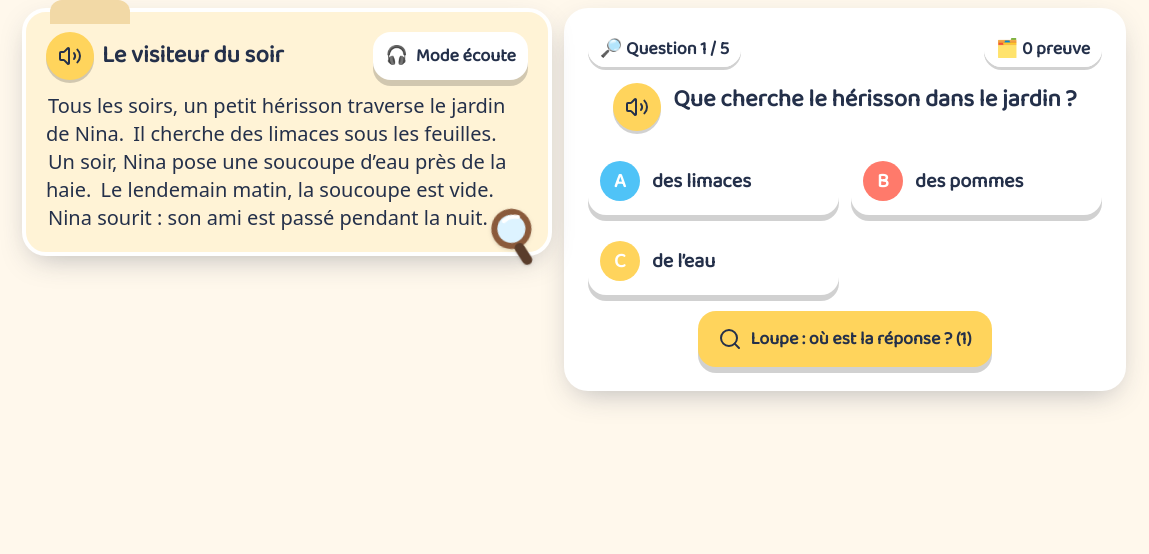
it: jeux de langue (composants) › Détective : une bonne réponse demande la preuve, la preuve est récompensée
Expected: the text "🔎 Question 1 / 5" is shown, [588,32,741,67]
Click the button "A des limaces": (713, 181) [588,147,839,215]
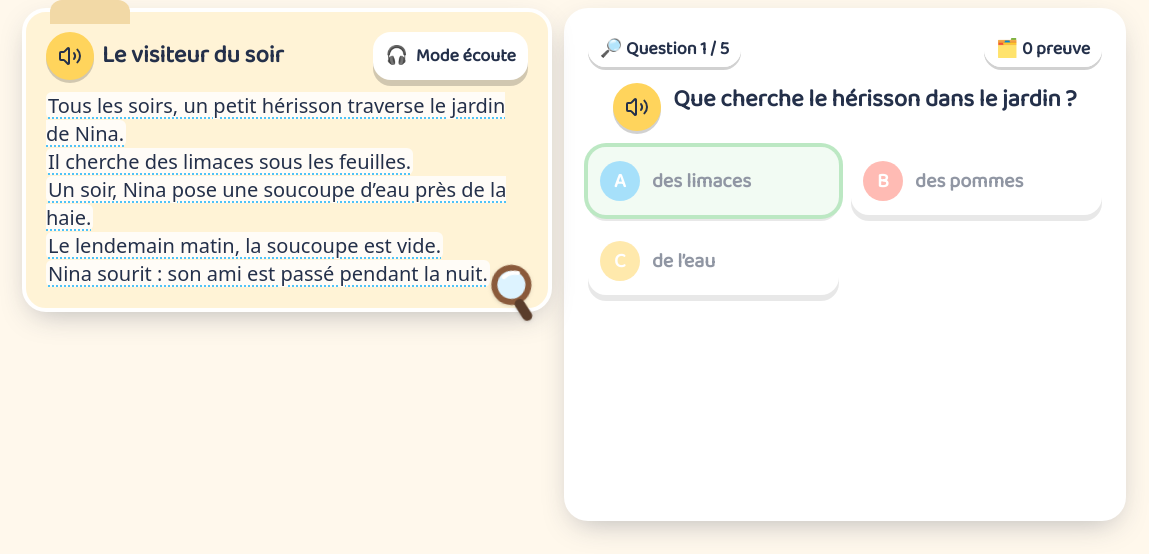
Click the button "Il cherche des limaces sous les feuilles.": (230, 162) [46,148,413,176]
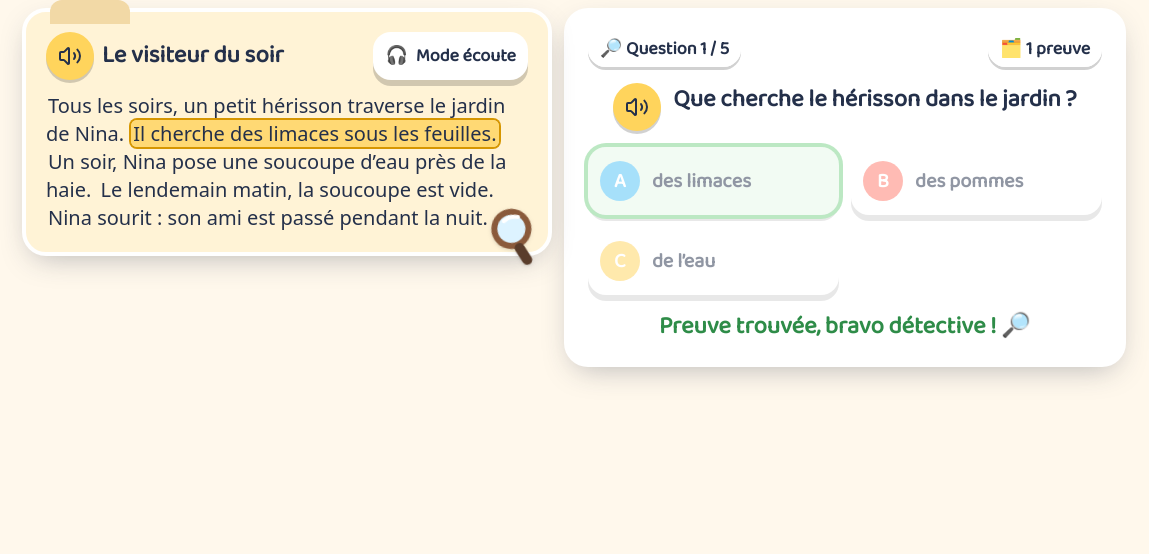
Result: the text "Preuve trouvée, bravo détective ! 🔎" is shown at [659,307,1031,346]
